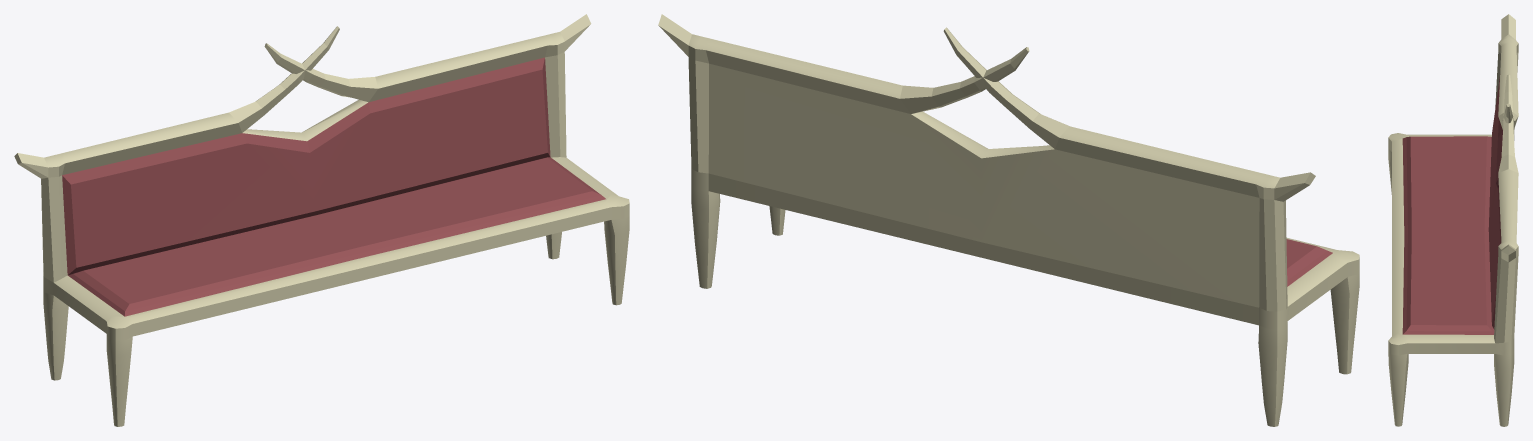
File: BUTACA.fbx
3 renders of one model, left to right at view 1: azimuth 30°, elevation 25°; view 2: azimuth 150°, elevation 25°; view 3: azimuth 270°, elevation 25°, orthographic. The views are drawn at different scales.
Parts seen in each view (by area): view 1: Butaca1; view 2: Butaca1; view 3: Butaca1.
Part boxes in pixels (x1,y1,x2,y2): Butaca1: (14,14,629,426); Butaca1: (658,14,1359,426); Butaca1: (1388,14,1518,426).
Size of the model in its own units: 4.04 by 1.91 by 0.9585.
